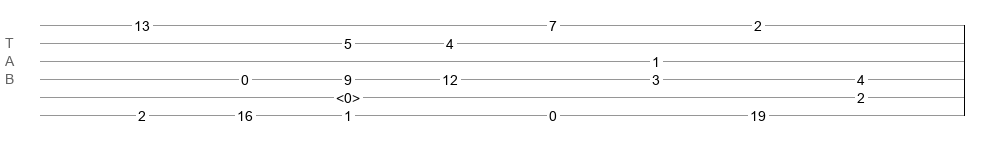0: (241, 72, 249, 82), (549, 108, 557, 118)
1: (344, 108, 352, 118), (652, 54, 660, 64)
12: (442, 72, 458, 82)
13: (134, 18, 150, 28)
16: (237, 108, 253, 118)
19: (750, 108, 766, 118)
2: (138, 108, 146, 118), (754, 18, 762, 28), (857, 90, 865, 100)
3: (652, 72, 660, 82)
4: (446, 36, 454, 46), (857, 72, 865, 82)
5: (344, 36, 352, 46)
7: (549, 18, 557, 28)
9: (344, 72, 352, 82)
harmonic: (336, 90, 360, 100)
